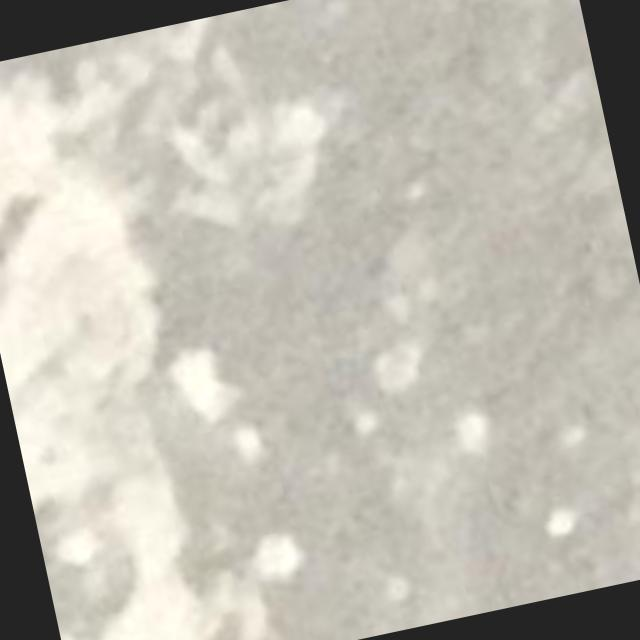peeling plaster: (0, 16, 329, 639)
